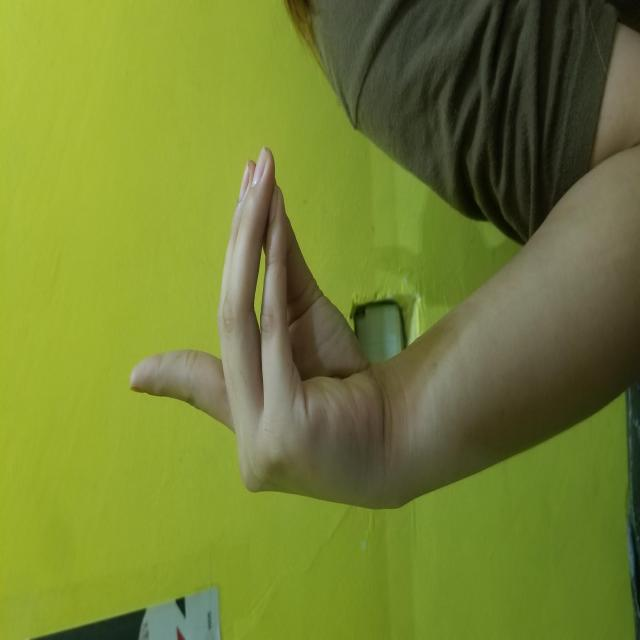D: (138, 131, 493, 377)
